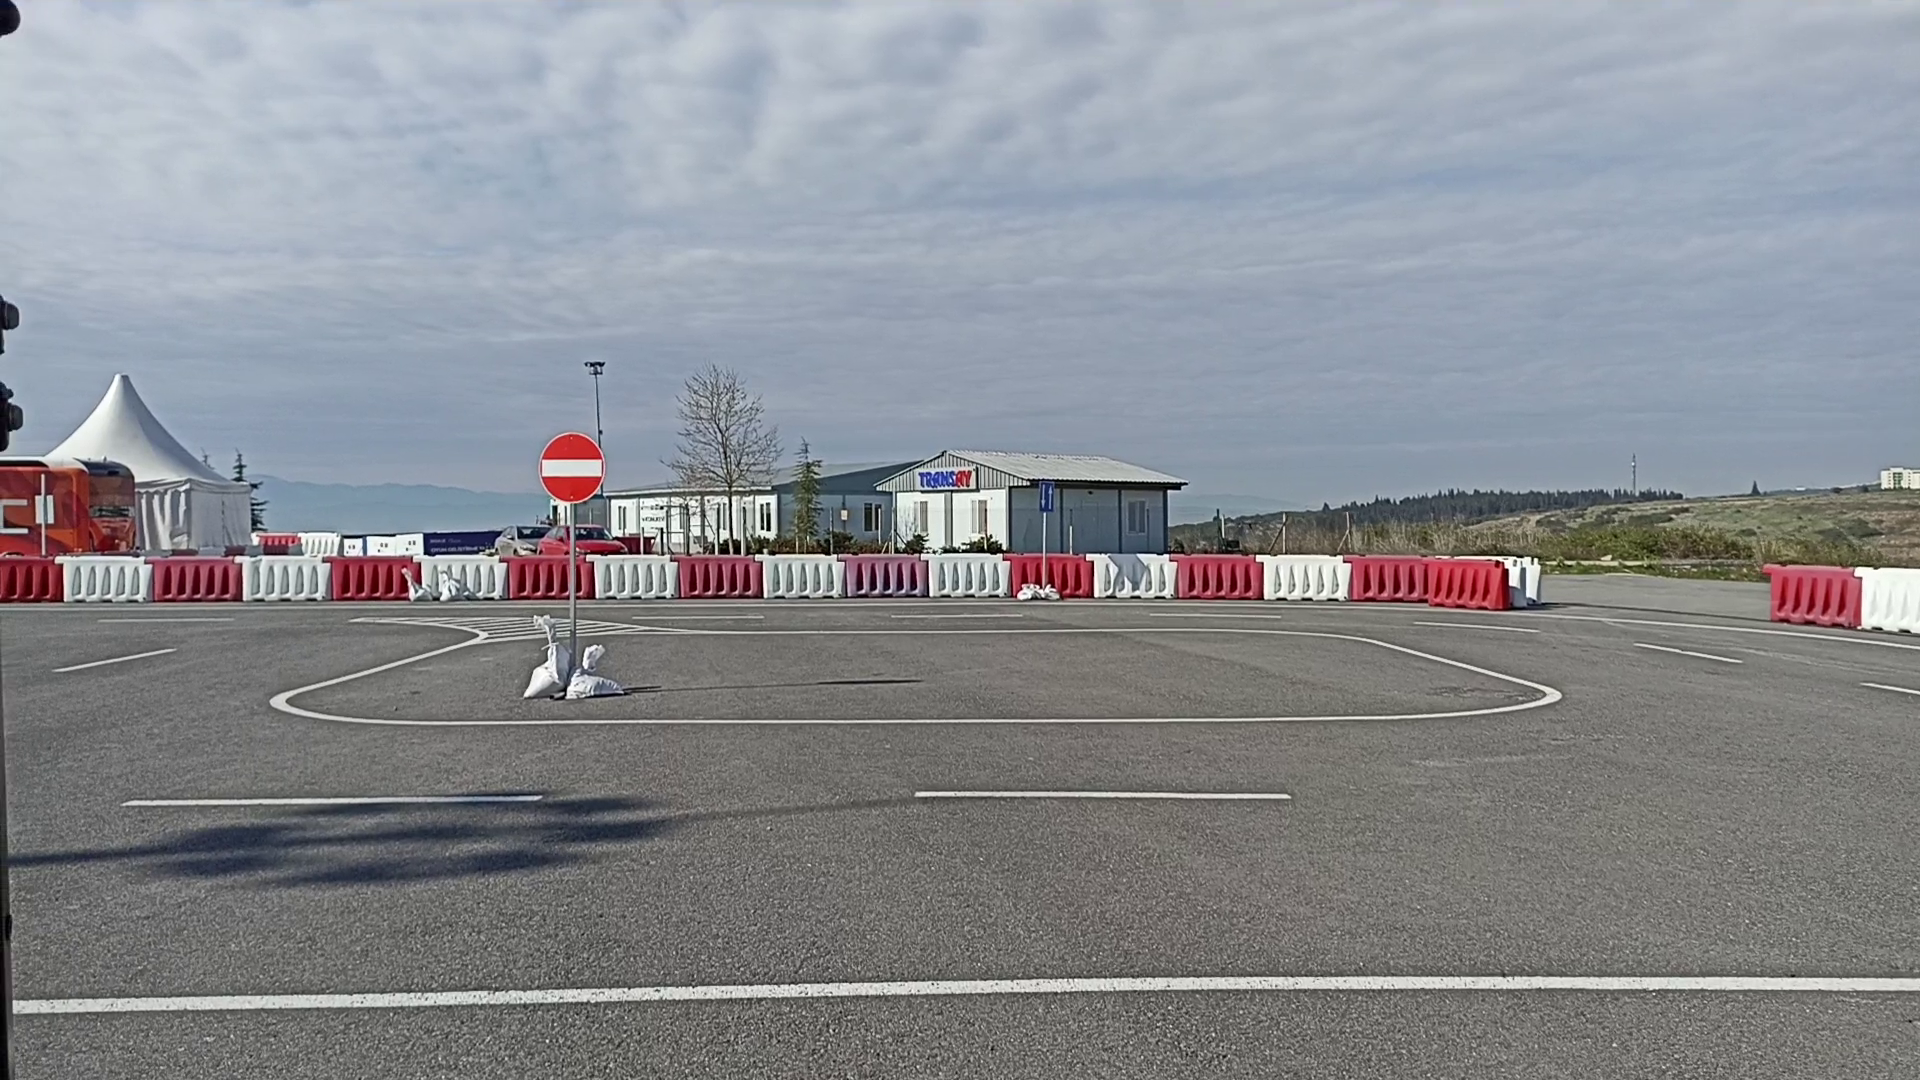noentryway: (538, 430, 607, 506)
